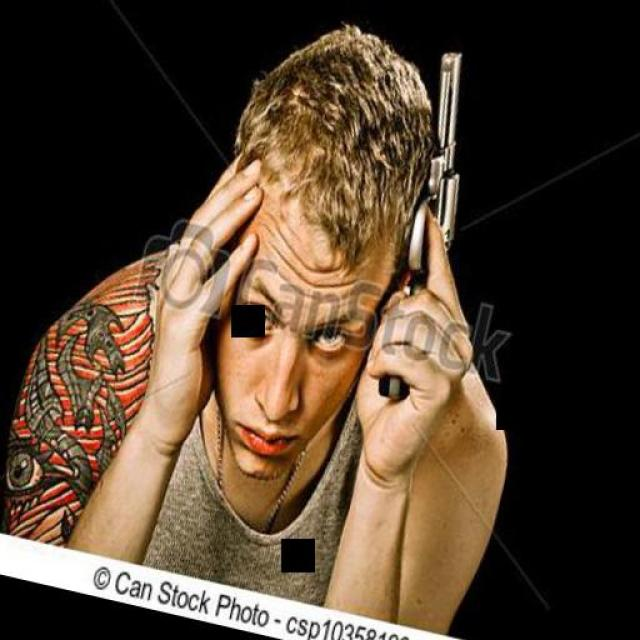gun: (352, 42, 498, 410)
